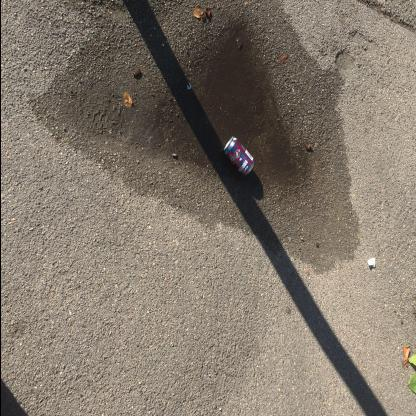metal: (224, 137, 255, 177)
